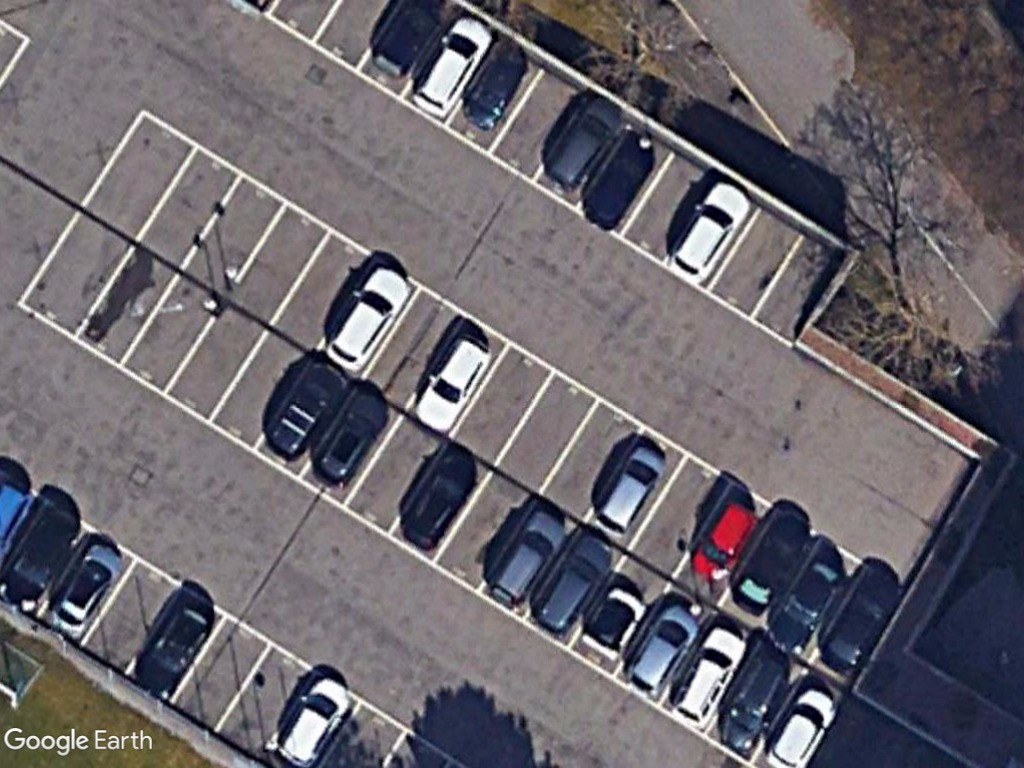car: (323, 261, 416, 373), (661, 182, 756, 286), (523, 530, 616, 629), (411, 15, 498, 120), (482, 507, 568, 611), (671, 618, 752, 724), (414, 329, 493, 437), (540, 97, 626, 195), (272, 672, 356, 768), (47, 542, 125, 643), (618, 604, 702, 695), (594, 440, 669, 540), (758, 687, 845, 768), (686, 495, 761, 587)
